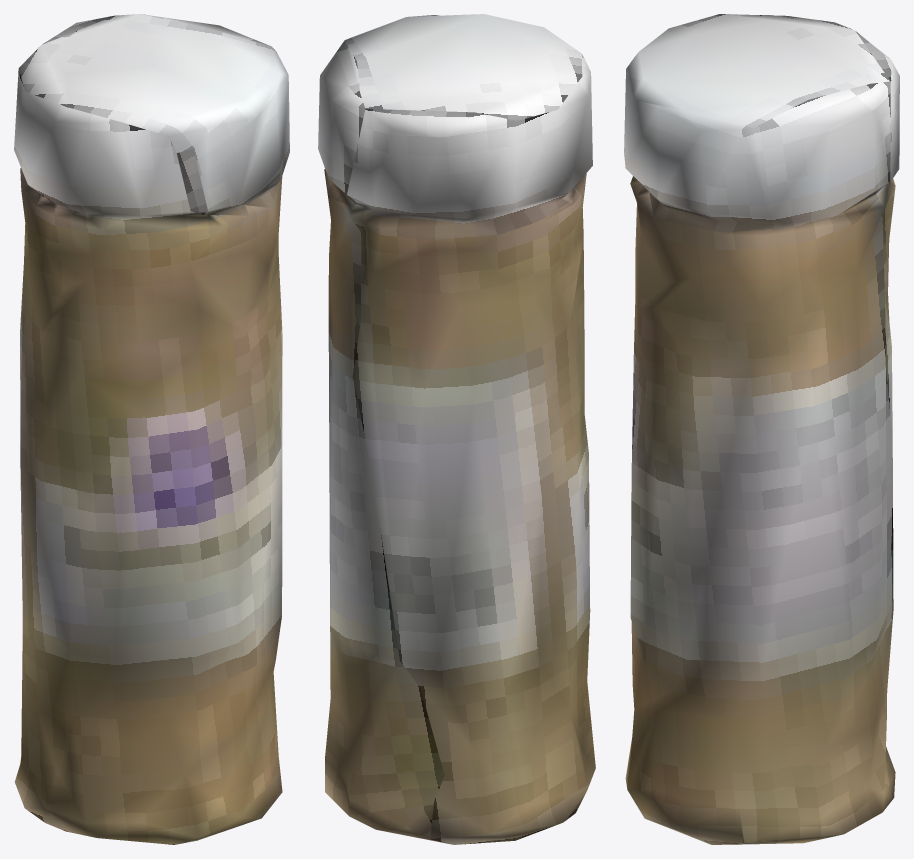
Rendered from Wilton_Pearlized_Sugar_Sprinkles_525_oz_Gold-low.glb.
The picture shows the model from 3 angles, left to right: view 1: azimuth 30°, elevation 25°; view 2: azimuth 150°, elevation 25°; view 3: azimuth 270°, elevation 25°; orthographic projection.
Parts seen in each view (by area): view 1: Wilton_Pearlized_Sugar_Sprinkles_525_oz_Gold; view 2: Wilton_Pearlized_Sugar_Sprinkles_525_oz_Gold; view 3: Wilton_Pearlized_Sugar_Sprinkles_525_oz_Gold.
Boxes of the visible parts, bbox=[...] form: Wilton_Pearlized_Sugar_Sprinkles_525_oz_Gold: bbox=[14, 14, 289, 844]; Wilton_Pearlized_Sugar_Sprinkles_525_oz_Gold: bbox=[318, 14, 595, 844]; Wilton_Pearlized_Sugar_Sprinkles_525_oz_Gold: bbox=[624, 14, 899, 844].
Size of the model in its own units: 0.0454 by 0.1341 by 0.0451.
Materials: 1 (1 with a texture image).
